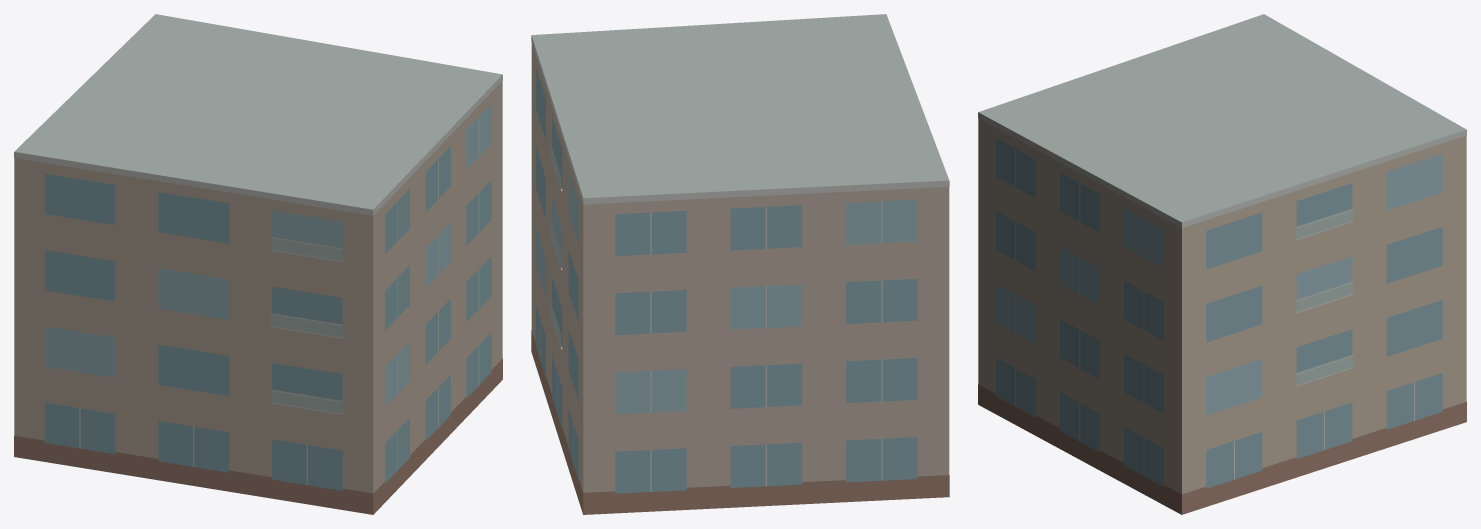
File: survey-upis-32646861.glb
3 views of the same model, side by side, from view 1: azimuth 30°, elevation 25°; view 2: azimuth 150°, elevation 25°; view 3: azimuth 270°, elevation 25° (orthographic). The views are drawn at different scales.
Parts seen in each view (by area): view 1: survey-upis-32646861.tmp; view 2: survey-upis-32646861.tmp; view 3: survey-upis-32646861.tmp.
Boxes of the visible parts, box(x1,y1,x2,y2) form: survey-upis-32646861.tmp: box(14, 14, 502, 514); survey-upis-32646861.tmp: box(531, 14, 949, 514); survey-upis-32646861.tmp: box(978, 14, 1466, 514).
Size of the model in its own units: 18.73 by 12.25 by 18.56.
